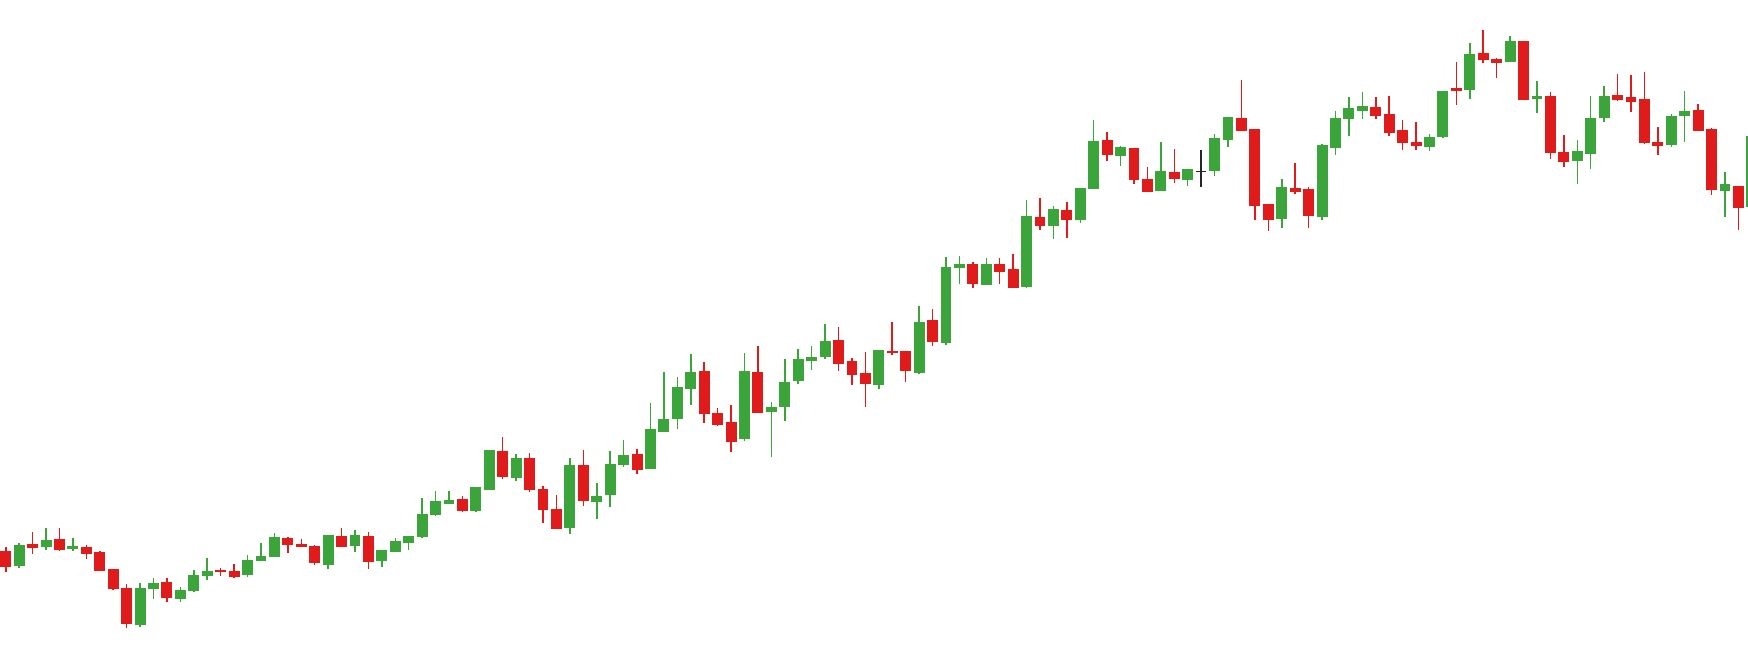buy: (1142, 131, 1290, 241), (458, 465, 579, 538)
